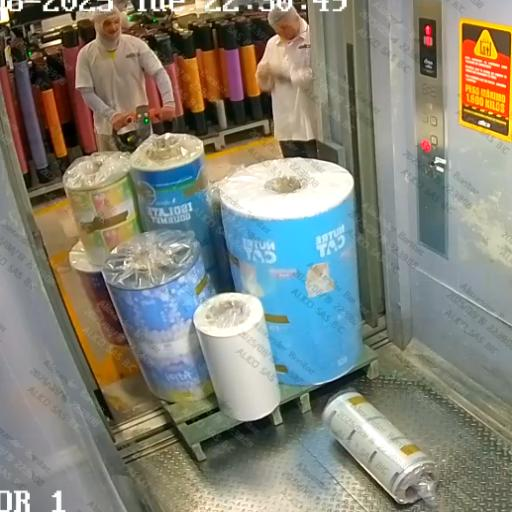rollos caidos: (185, 269, 481, 512)
